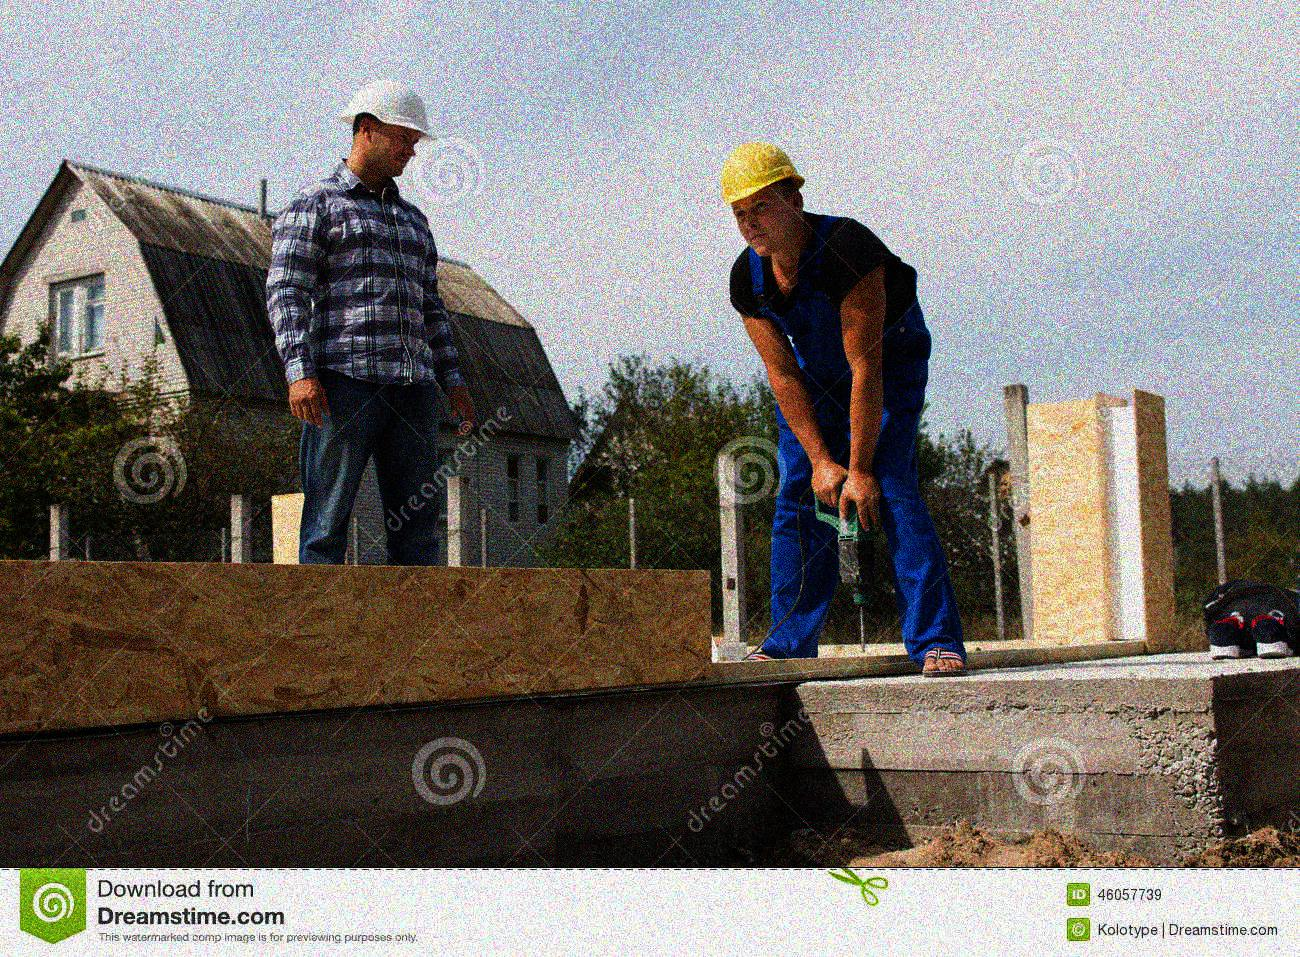helmet: (717, 141, 811, 256), (338, 77, 434, 186)
